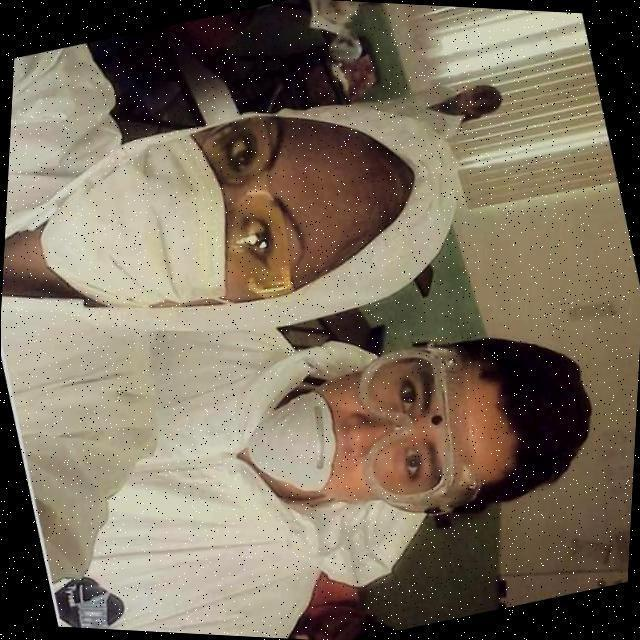mask: (60, 154, 209, 300), (265, 403, 335, 484)
no_gloves: (479, 337, 587, 477), (354, 109, 450, 262), (476, 85, 498, 119)
